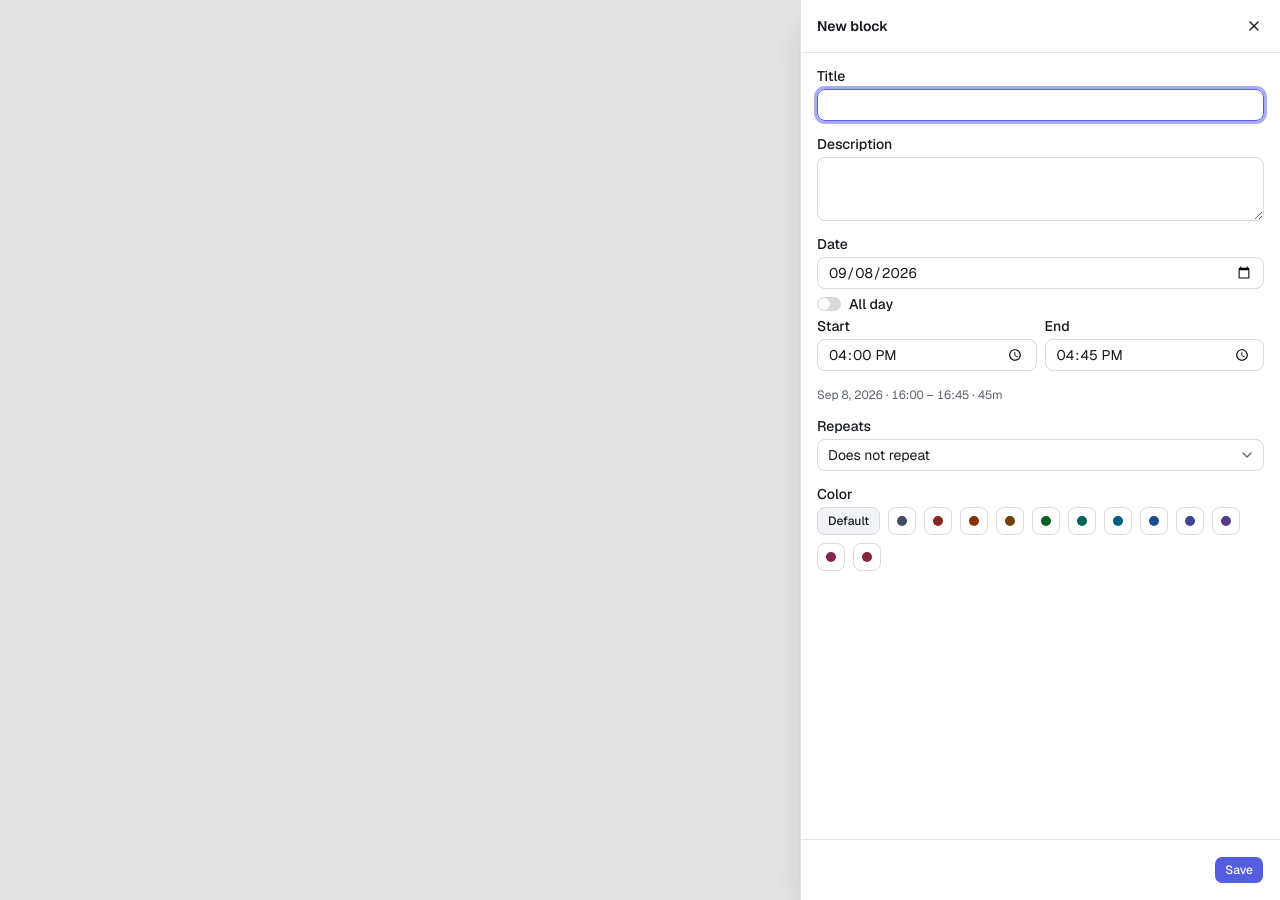
BlockEditor › refuses a block with no title
Click the button "Save" at (1239, 870), box [1214,856,1264,884]
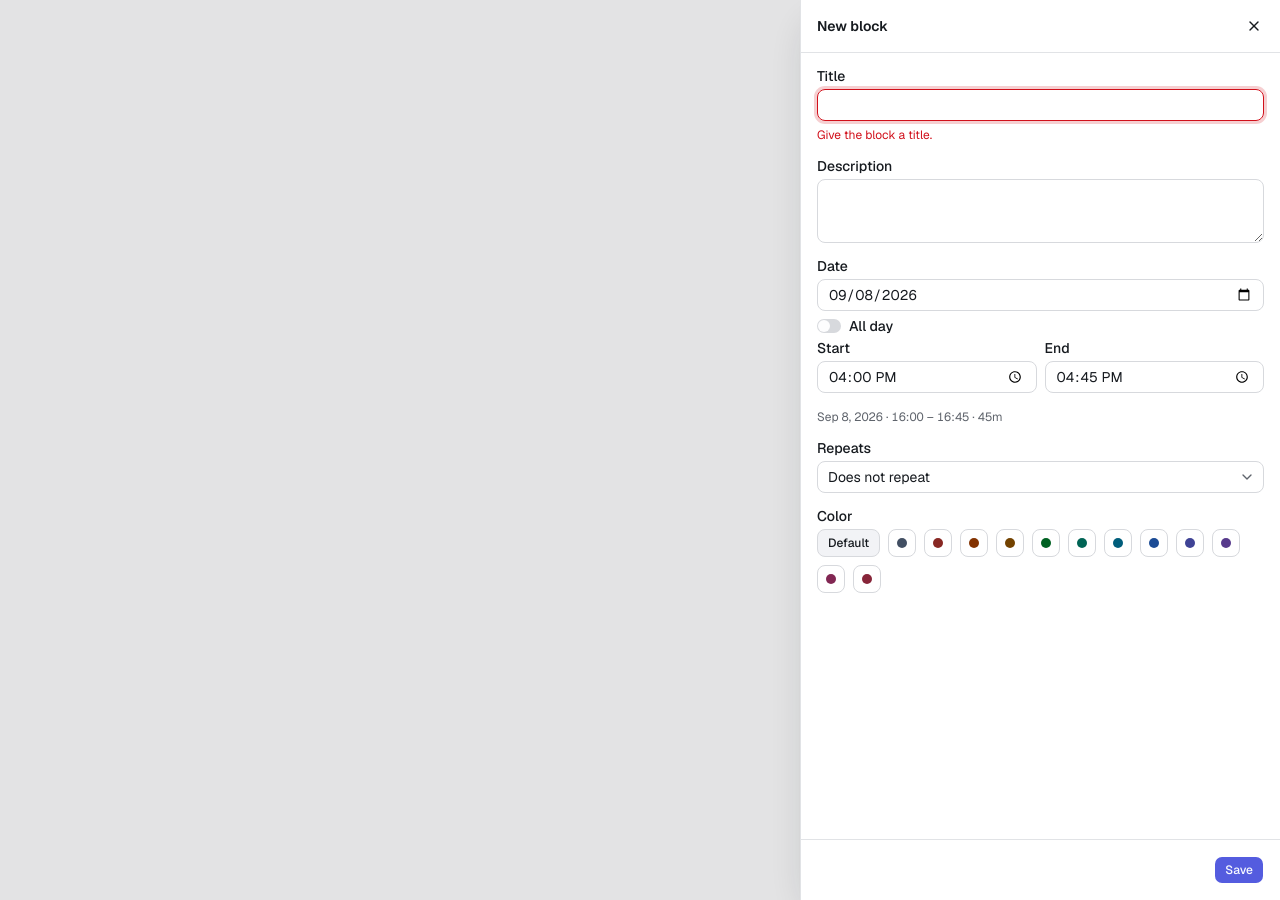
Expected: the text "Give the block a title." is shown, [817,127,932,143]
